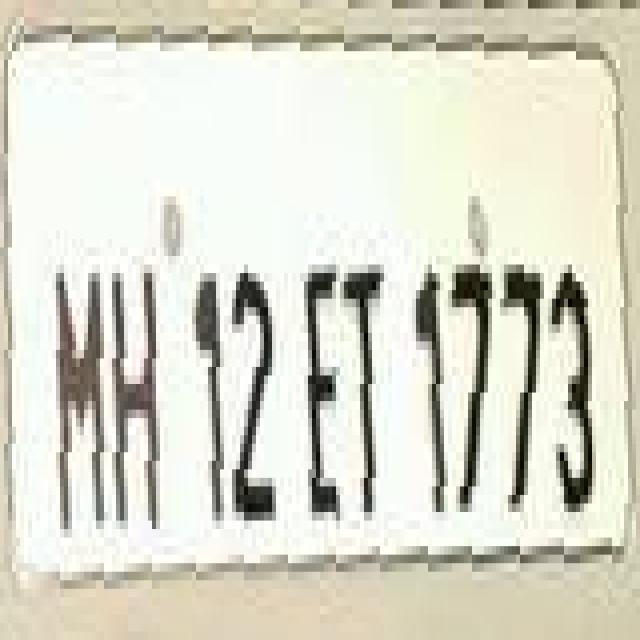license_plate: (20, 34, 640, 572)
